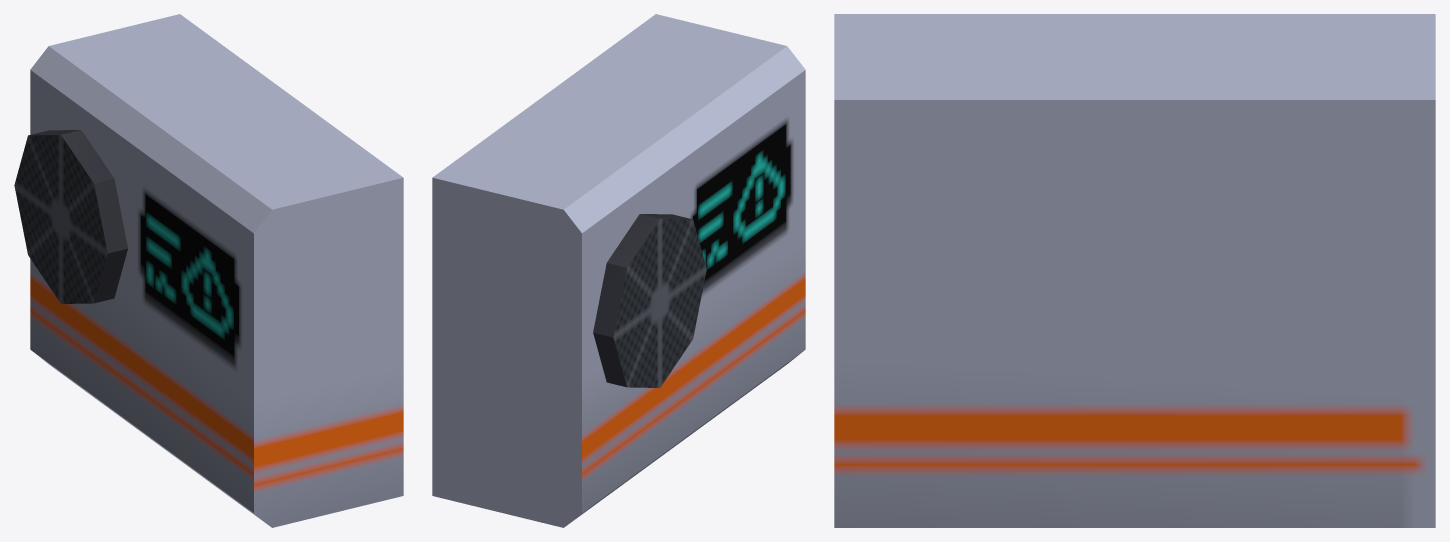
File: conditioner.fbx
3 views of the same model, side by side, from view 1: azimuth 30°, elevation 25°; view 2: azimuth 150°, elevation 25°; view 3: azimuth 270°, elevation 25° (orthographic). The views are drawn at different scales.
Visible parts, largest first — view 1: Куб.172; view 2: Куб.172; view 3: Куб.172.
Part boxes in pixels (x1,y1,x2,y2): Куб.172: (14, 14, 403, 527); Куб.172: (432, 14, 805, 527); Куб.172: (834, 14, 1435, 527).
Bounding box in the file's own units: 56.1 × 98.41 × 125.
